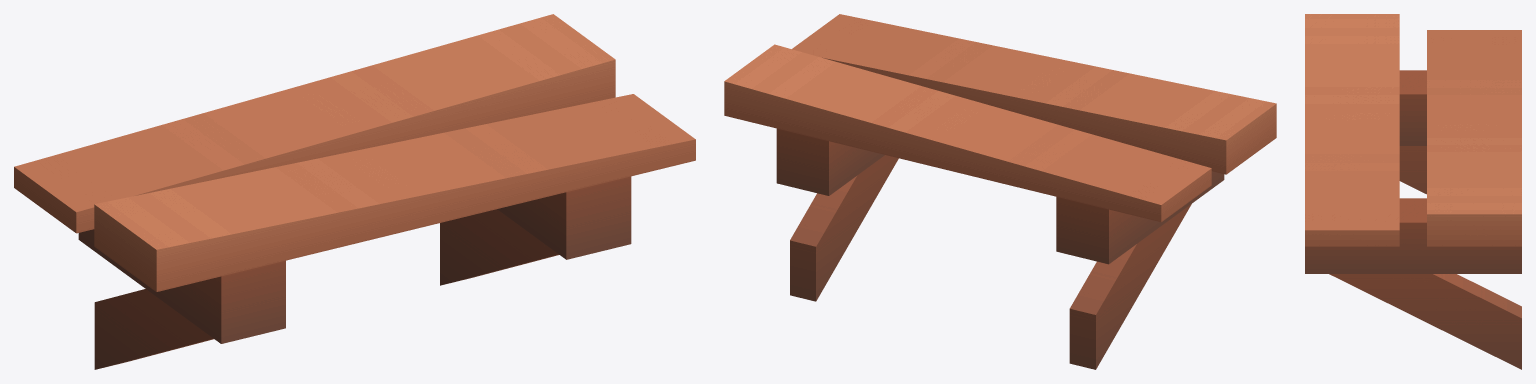
File: platform-overhang.glb
3 views of the same model, side by side, from view 1: azimuth 30°, elevation 25°; view 2: azimuth 150°, elevation 25°; view 3: azimuth 270°, elevation 25° (orthographic). The views are drawn at different scales.
Visible parts, largest first — view 1: platform-overhang; view 2: platform-overhang; view 3: platform-overhang.
Part boxes in pixels (box(x1,y1,x2,y2)): platform-overhang: box(14, 14, 695, 369); platform-overhang: box(724, 14, 1276, 369); platform-overhang: box(1305, 14, 1521, 369).
Size of the model in its own units: 1 by 0.4325 by 0.4577.
Materials: 1 (1 with a texture image).
